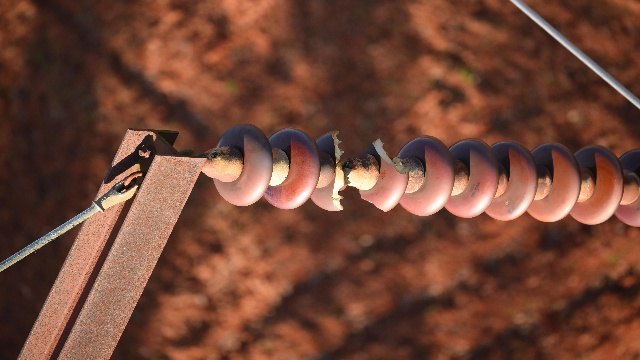broken_local: (371, 136, 412, 179), (326, 129, 346, 213), (355, 182, 390, 215)
insulator_unspecified: (212, 125, 639, 228)
